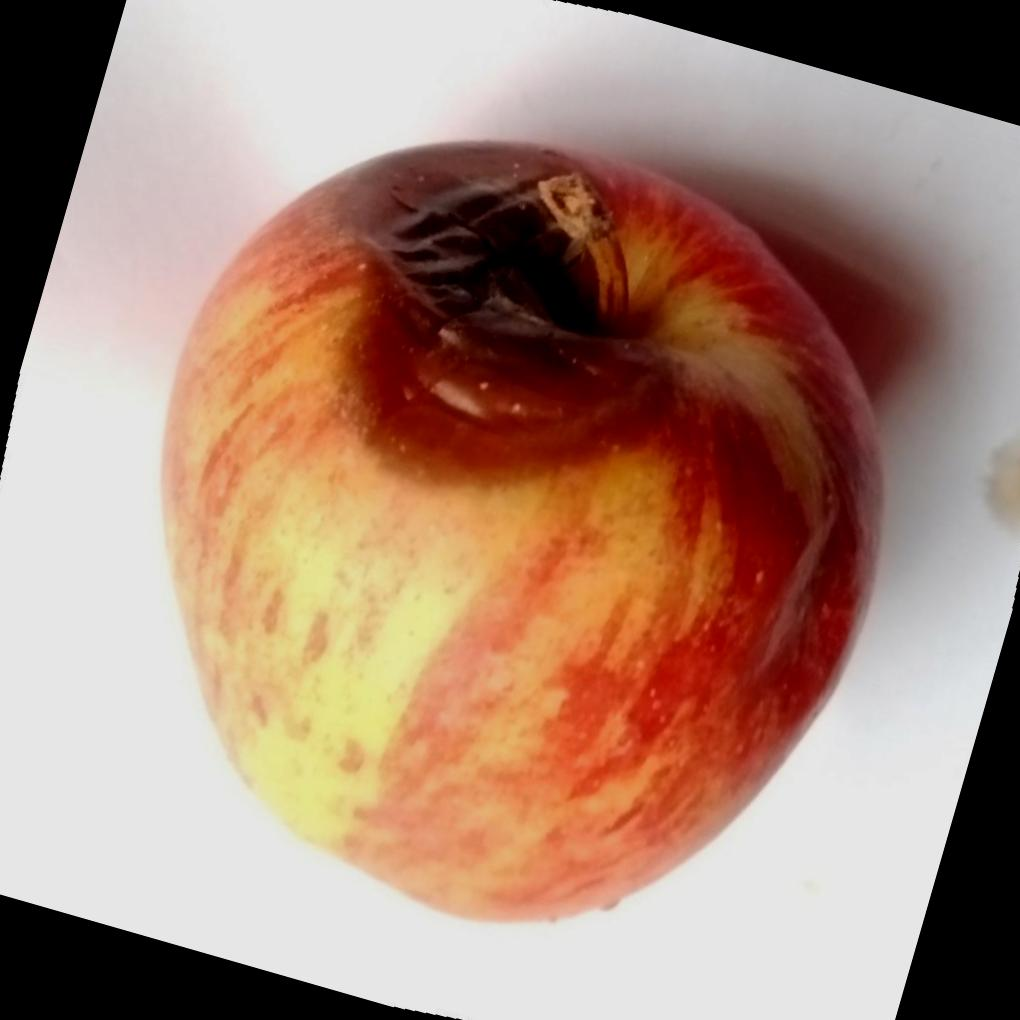FreshOrange: (196, 146, 882, 922)
